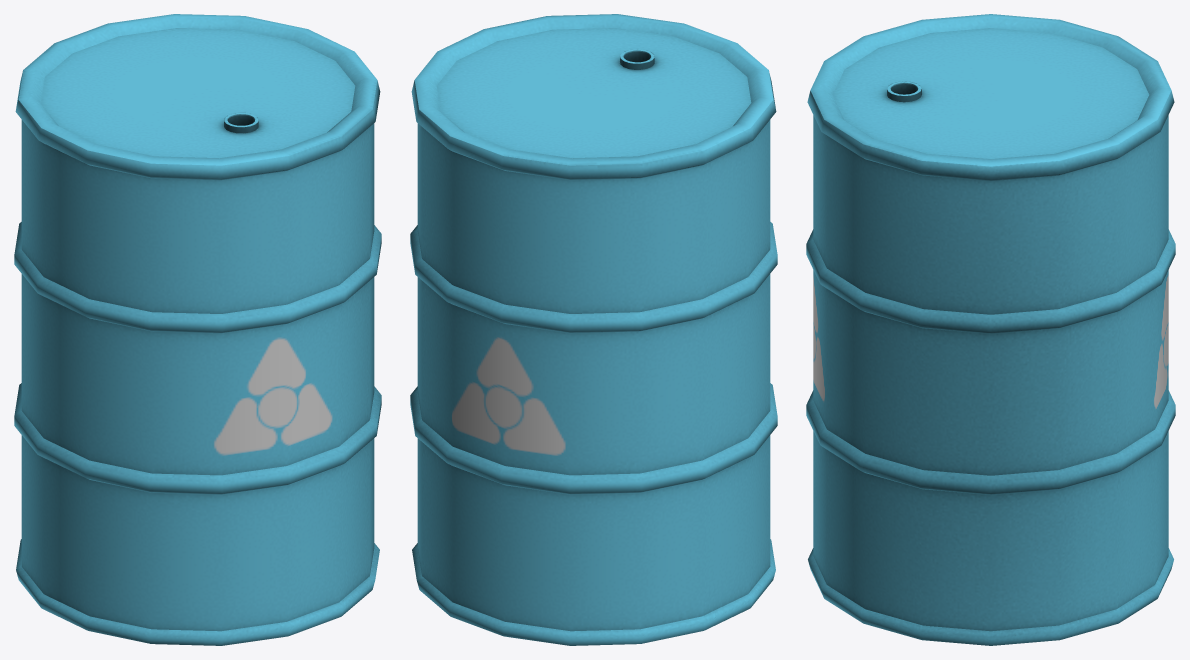
Rendered from oilBarrel02.fbx.
3 views of the same model, side by side, from view 1: azimuth 30°, elevation 25°; view 2: azimuth 150°, elevation 25°; view 3: azimuth 270°, elevation 25° (orthographic).
Parts seen in each view (by area): view 1: polySurface187; view 2: polySurface187; view 3: polySurface187.
Boxes of the visible parts, bbox=[...] form: polySurface187: bbox=[14, 14, 381, 645]; polySurface187: bbox=[410, 14, 777, 645]; polySurface187: bbox=[806, 14, 1175, 645].
Size of the model in its own units: 14.19 by 20.47 by 14.19.
1 material, 1 textured.
